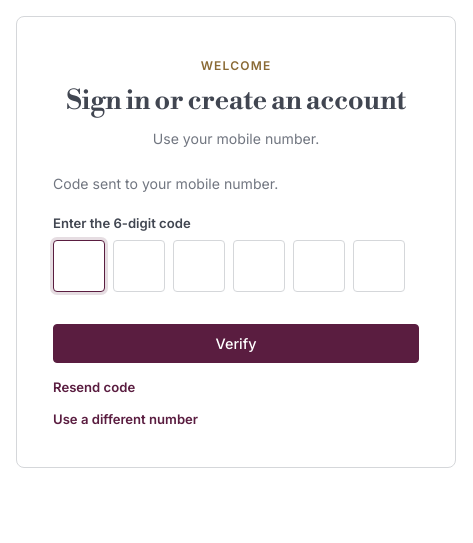
it: LoginComponent — OTP auto-verify › a wrong autofilled code shows the error and clears the code for another try
Type "123456" into the field named "Digit 1 of 6" at (79, 266), box [53,240,105,292]
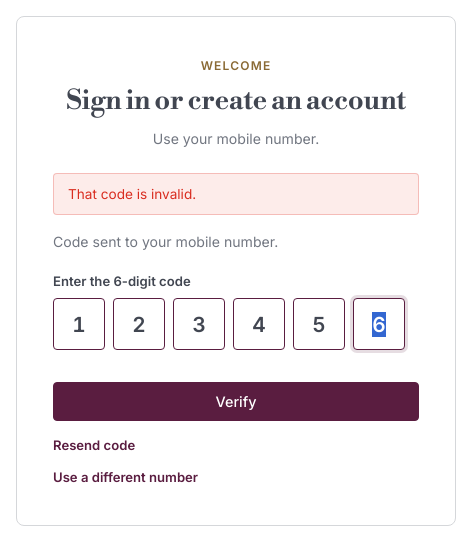
Result: the message "That code is invalid." is shown at [53,173,419,215]
